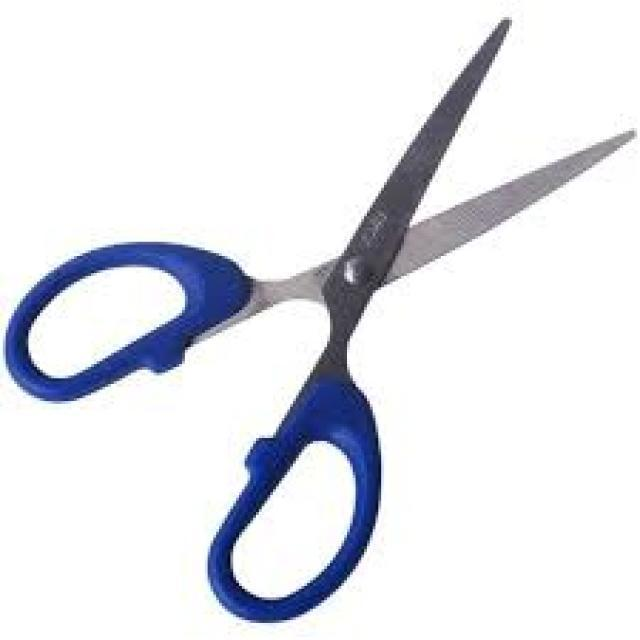Scissors: (0, 2, 639, 626)
